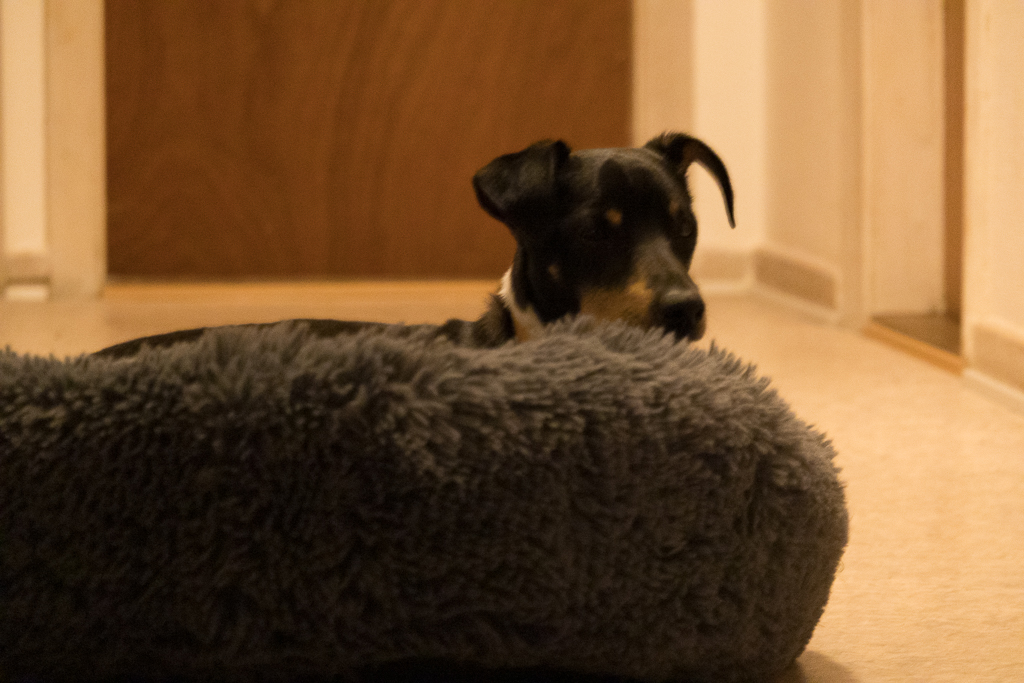Dog: (70, 126, 747, 376)
